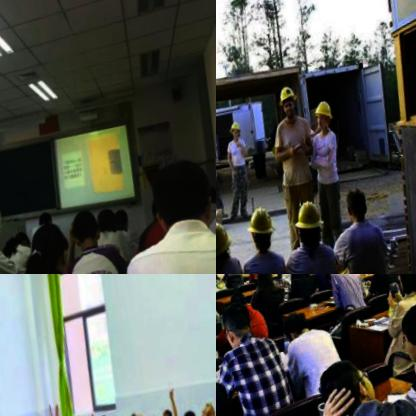head: (147, 152, 216, 240), (313, 352, 384, 416), (27, 216, 76, 274), (217, 300, 260, 347), (68, 203, 106, 253), (395, 293, 416, 370), (281, 305, 314, 344), (97, 206, 123, 238), (394, 274, 416, 301), (228, 287, 249, 313), (113, 208, 133, 234), (15, 227, 33, 249), (38, 209, 56, 230), (253, 274, 275, 291), (180, 402, 204, 416), (202, 399, 216, 416), (323, 274, 343, 284), (161, 405, 178, 416), (127, 408, 145, 416), (263, 274, 282, 281), (73, 409, 91, 416), (99, 410, 114, 416)
helmet: (293, 196, 334, 253), (247, 203, 283, 255), (277, 84, 302, 121), (313, 98, 338, 135), (216, 218, 237, 262), (228, 119, 245, 142)
